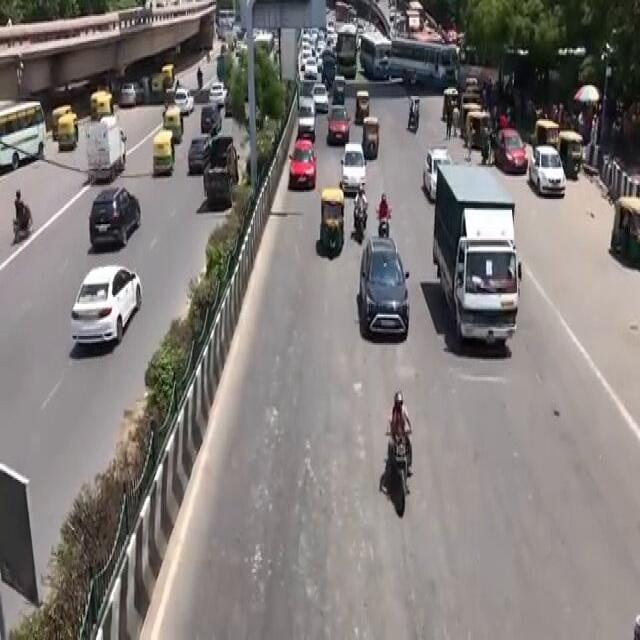three_wheeler: (313, 180, 349, 266)
